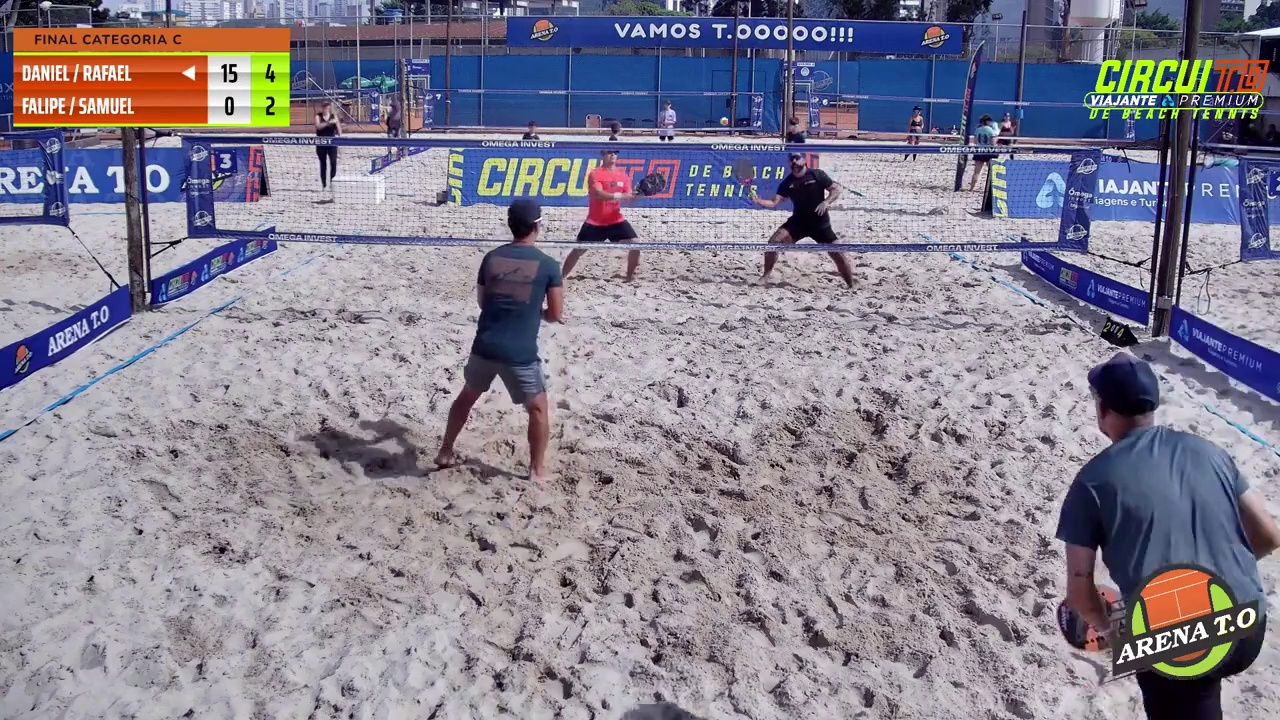court_line: (644, 0, 814, 444)
